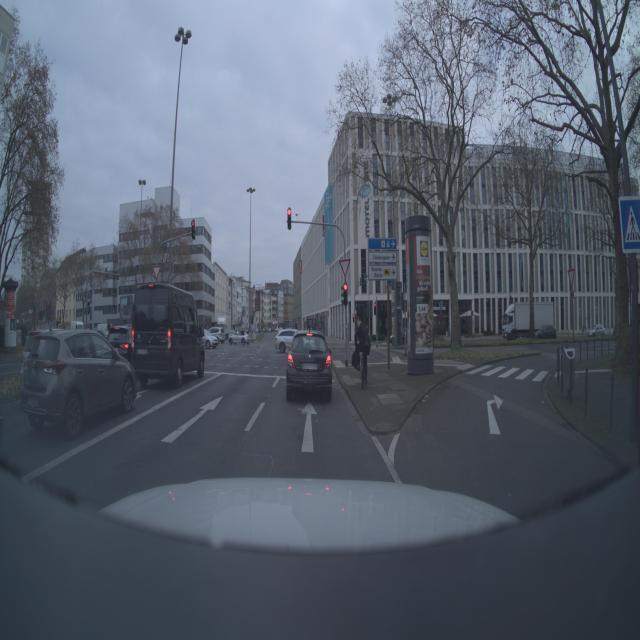red_light: (190, 216, 198, 243), (286, 207, 294, 233), (342, 284, 350, 308)
